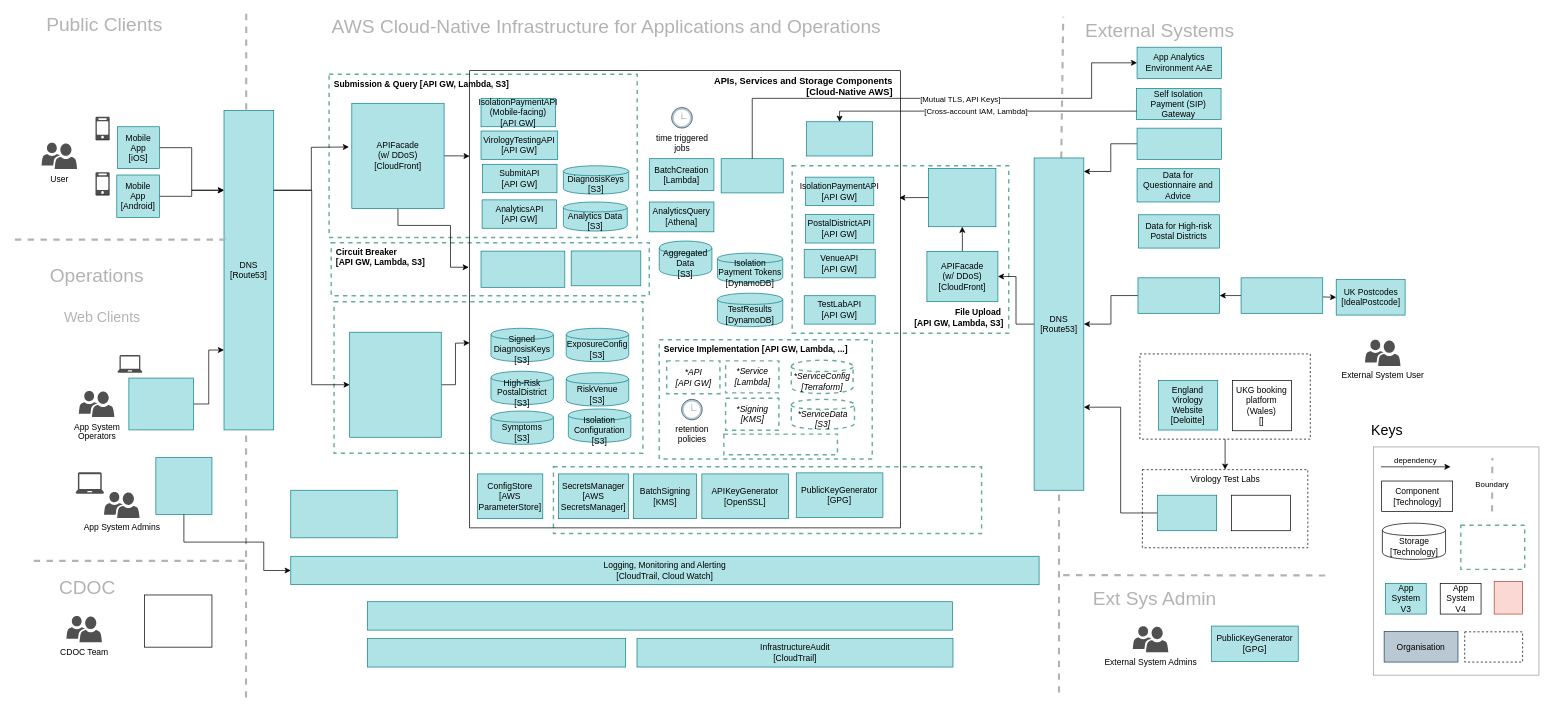
Some shapes in this 1551 by 711 pixel diagram are drawn without their labels. The box of each missing label's shape, as (x1, y1, x2, y2) in pixels:
AnalyticsExport [Lambda]: (720, 158, 783, 193)
Application level Security Components: (552, 466, 982, 534)
Architectural Pattern [Technologies]: (1460, 524, 1525, 570)
CDN (w/ DDoS) [CloudFront]: (349, 331, 441, 437)
Control Panel Dashboard [SPA]: (128, 377, 193, 430)
DistributeAPI [CDN, S3]: (333, 301, 643, 454)
England Test Database [NPEx]: (1157, 495, 1217, 531)
ExposureNotification CircuitBreaker [API GW]: (480, 250, 565, 287)
Group: (1464, 631, 1523, 662)
IsolationPaymentAPI (Gateway-facing) [Lambda]: (806, 121, 873, 156)
Onboarded and integrated wit App System Operations: (144, 594, 212, 647)
OperationsAlert [SNS/ JiraServiceDesk/ Slack]: (290, 490, 397, 538)
Ops&Infra Dashboards [AWS]: (155, 457, 212, 514)
Payload Signing Keys [AWS ParameterStore]: (723, 433, 838, 455)
PermissionManagement [IAM]: (367, 601, 952, 630)
QR Code Poster Generator [SPA (Rush)]: (1240, 277, 1323, 313)
RiskVenue CircuitBreaker [API GW]: (570, 250, 641, 286)
RiskVenues [SPA (Rush)]: (1137, 277, 1220, 313)
SecurityAudit [IAM Access Analyzer, Trusted Advisor]: (367, 638, 626, 667)
SIP Wales: (1136, 127, 1222, 159)
TBC: (1493, 581, 1523, 614)
Virology Request Websites: (1139, 353, 1310, 439)
WAF [CloudFront]: (928, 168, 996, 227)
Welsh Testing System []: (1231, 495, 1290, 531)
